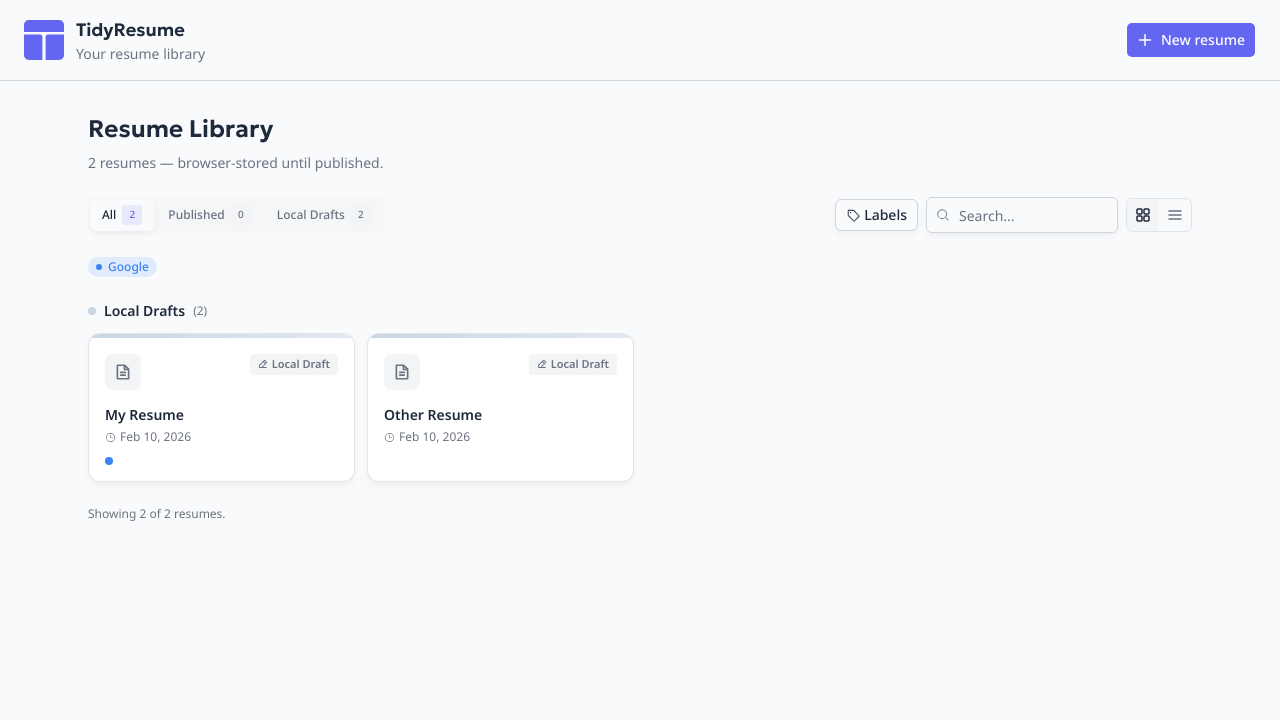
Test case: ResumeLibrary (labels) › searches by label name
Type "Google" into the field named "Search resumes" at x=1022, y=215, box [926,197,1118,233]
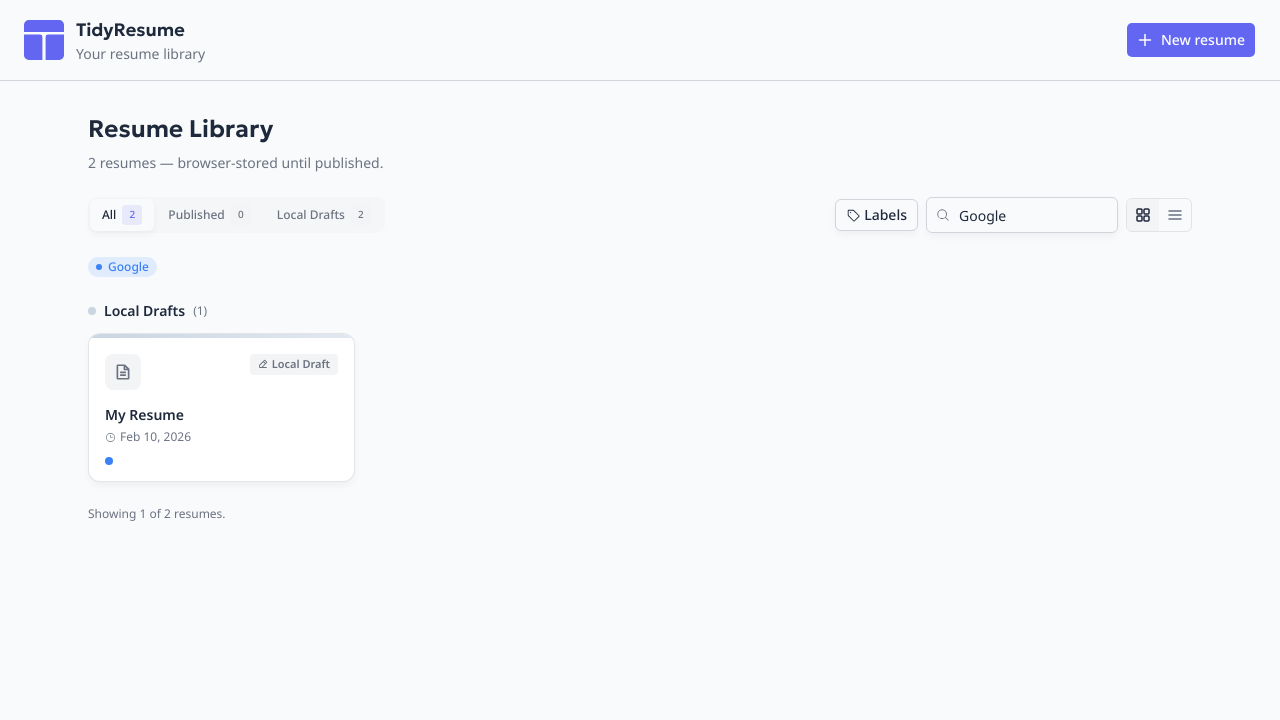
Expected: the button "My Resume" is shown, [105,405,338,425]
Result: the button "Other Resume" is gone
